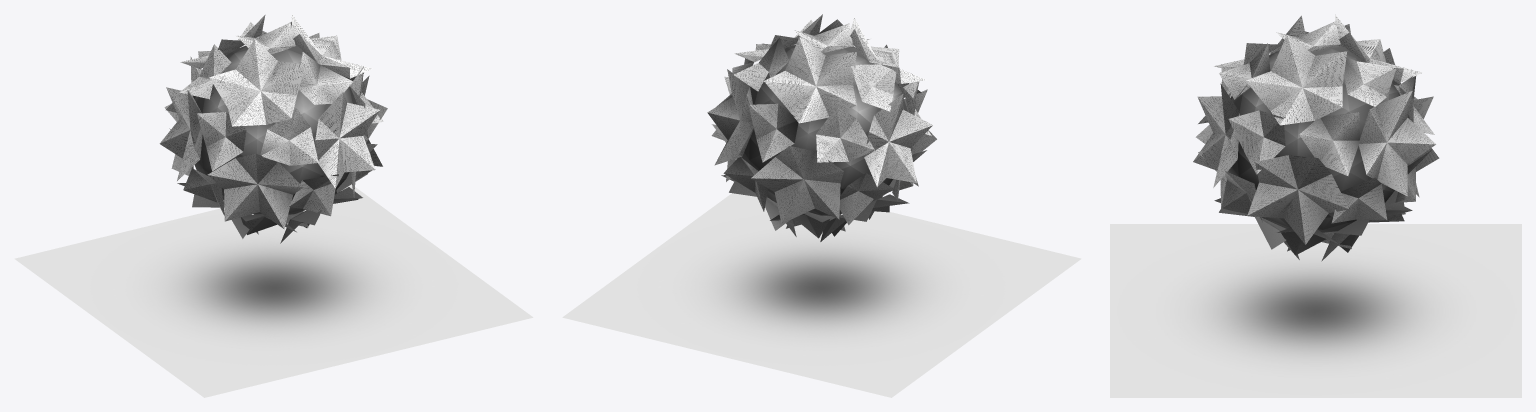
The model's file is lampe.dae.
The picture shows the model from 3 angles, left to right: view 1: azimuth 30°, elevation 25°; view 2: azimuth 150°, elevation 25°; view 3: azimuth 270°, elevation 25°; orthographic projection. The views are drawn at different scales.
Parts seen in each view (by area): view 1: sol, lampe; view 2: sol, lampe; view 3: sol, lampe.
Part boxes in pixels (x1,y1,x2,y2): sol: (14, 184, 533, 397); lampe: (159, 14, 387, 243); sol: (562, 193, 1081, 397); lampe: (707, 14, 936, 241); sol: (1110, 224, 1521, 397); lampe: (1193, 14, 1439, 261).
Bounding box in the file's own units: 600 × 455 × 600.
Materials: 2 (2 with a texture image).
